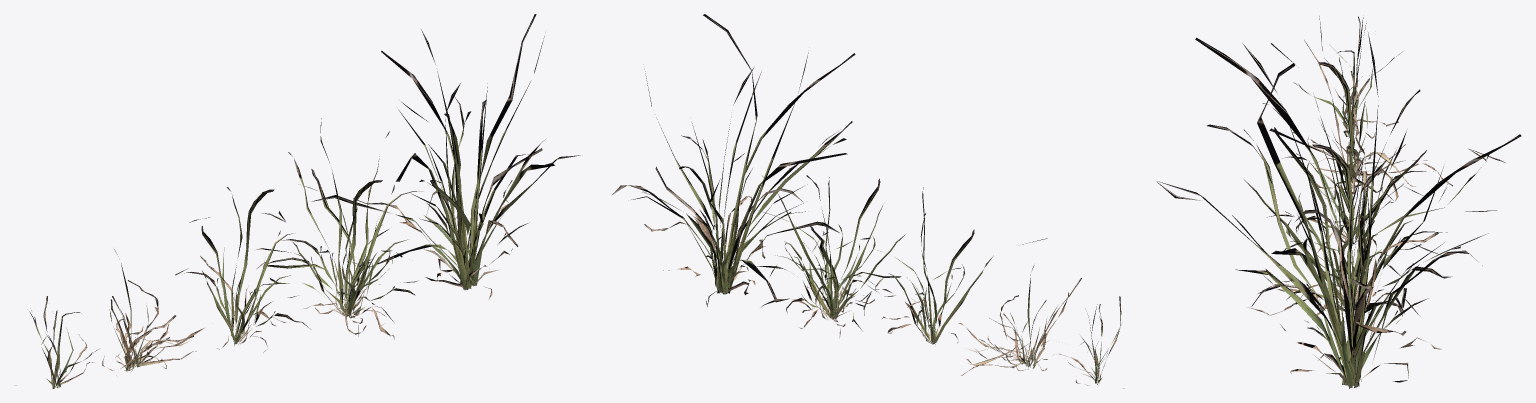
The model's file is veg_grass_medium_02.glb.
3 views of the same model, side by side, from view 1: azimuth 30°, elevation 25°; view 2: azimuth 150°, elevation 25°; view 3: azimuth 270°, elevation 25° (orthographic). The views are drawn at different scales.
Visible parts, largest first — view 1: grass_medium_02_e, grass_medium_02_d, grass_medium_02_c, grass_medium_02_b, grass_medium_02_a; view 2: grass_medium_02_e, grass_medium_02_d, grass_medium_02_c, grass_medium_02_b, grass_medium_02_a; view 3: grass_medium_02_e, grass_medium_02_d, grass_medium_02_c, grass_medium_02_b, grass_medium_02_a.
Part boxes in pixels (<box>): grass_medium_02_e: <box>312,14,580,299</box>; grass_medium_02_d: <box>254,118,423,339</box>; grass_medium_02_c: <box>175,187,310,352</box>; grass_medium_02_b: <box>102,249,204,375</box>; grass_medium_02_a: <box>16,296,98,388</box>; grass_medium_02_e: <box>612,14,855,306</box>; grass_medium_02_d: <box>729,175,905,338</box>; grass_medium_02_c: <box>841,187,1047,344</box>; grass_medium_02_b: <box>958,265,1083,375</box>; grass_medium_02_a: <box>1043,296,1124,388</box>; grass_medium_02_e: <box>1157,32,1521,388</box>; grass_medium_02_d: <box>1244,89,1496,323</box>; grass_medium_02_c: <box>1271,43,1505,277</box>; grass_medium_02_b: <box>1262,23,1452,202</box>; grass_medium_02_a: <box>1293,16,1401,138</box>.
Bounding box in the file's own units: 1.44 × 0.7302 × 0.6885.
Materials: 1 (1 with a texture image).
